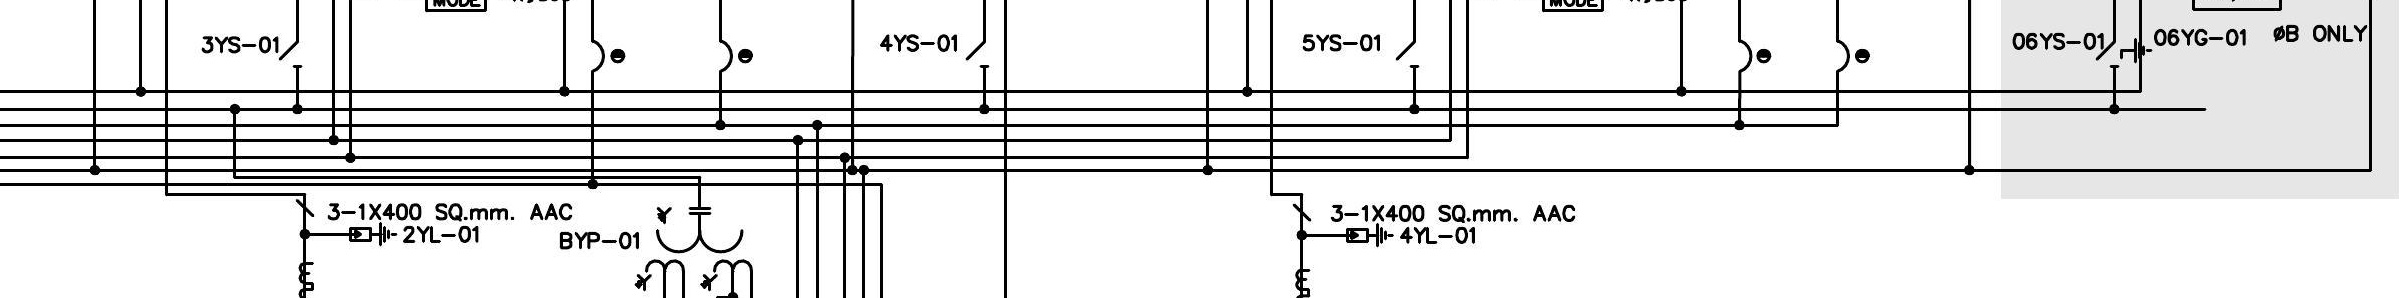115_cvt_3p: (633, 206, 754, 292)
115_ds: (278, 40, 304, 67), (965, 40, 990, 69), (1395, 40, 1420, 69)
115_la: (1346, 222, 1395, 248), (349, 222, 398, 248)
